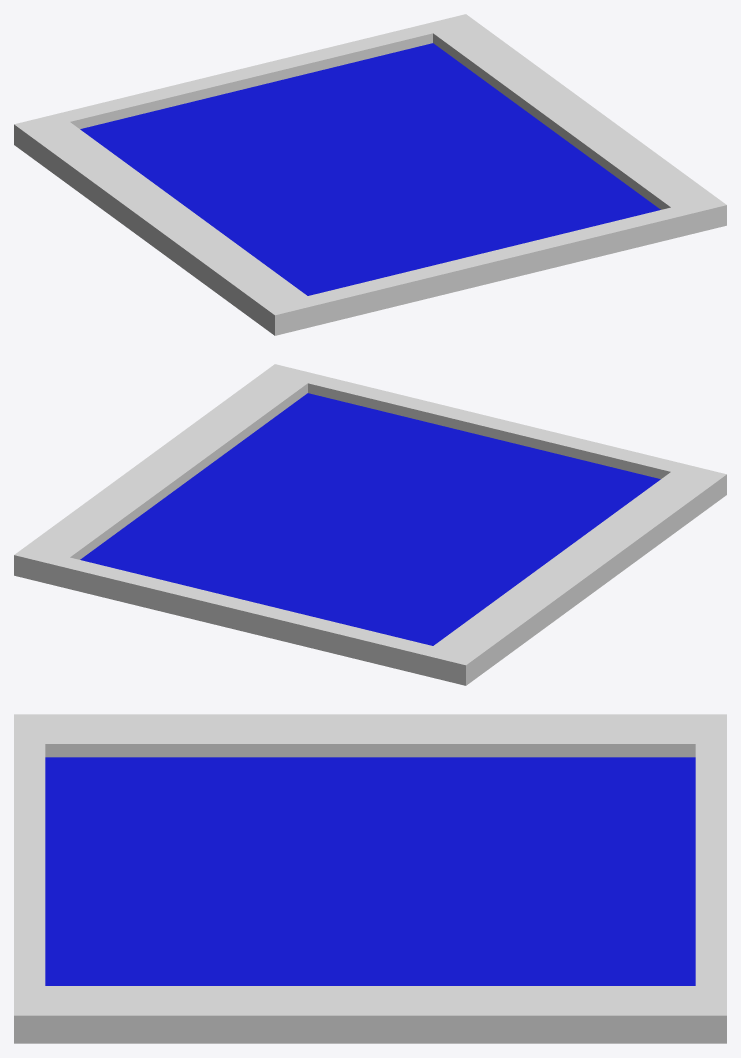
The model's file is SM_RasterFloor.fbx.
The picture shows the model from 3 angles, top to bottom: view 1: azimuth 30°, elevation 25°; view 2: azimuth 150°, elevation 25°; view 3: azimuth 270°, elevation 25°; orthographic projection. The views are drawn at different scales.
Visible parts, largest first — view 1: SM_RasterFloor; view 2: SM_RasterFloor; view 3: SM_RasterFloor.
Part boxes in pixels (x1,y1,x2,y2): SM_RasterFloor: (14, 14, 726, 335); SM_RasterFloor: (14, 364, 726, 685); SM_RasterFloor: (14, 714, 726, 1043).
Bounding box in the file's own units: 200 × 200 × 8.7.
